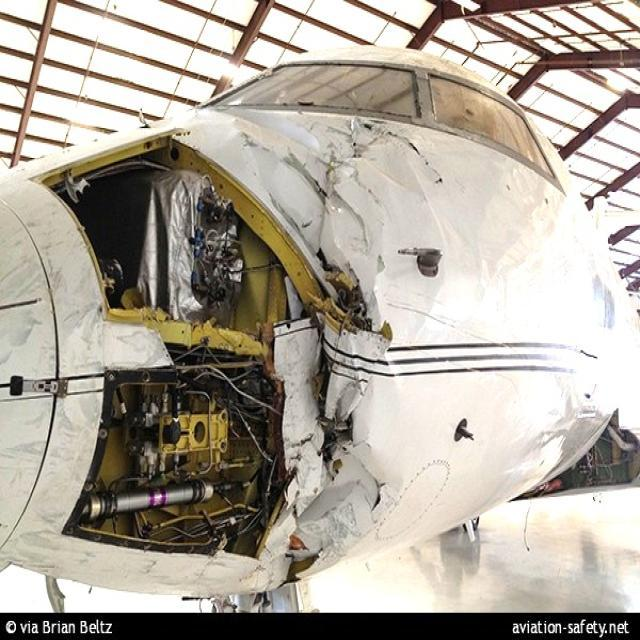crack: (357, 122, 447, 186), (339, 442, 390, 516)
